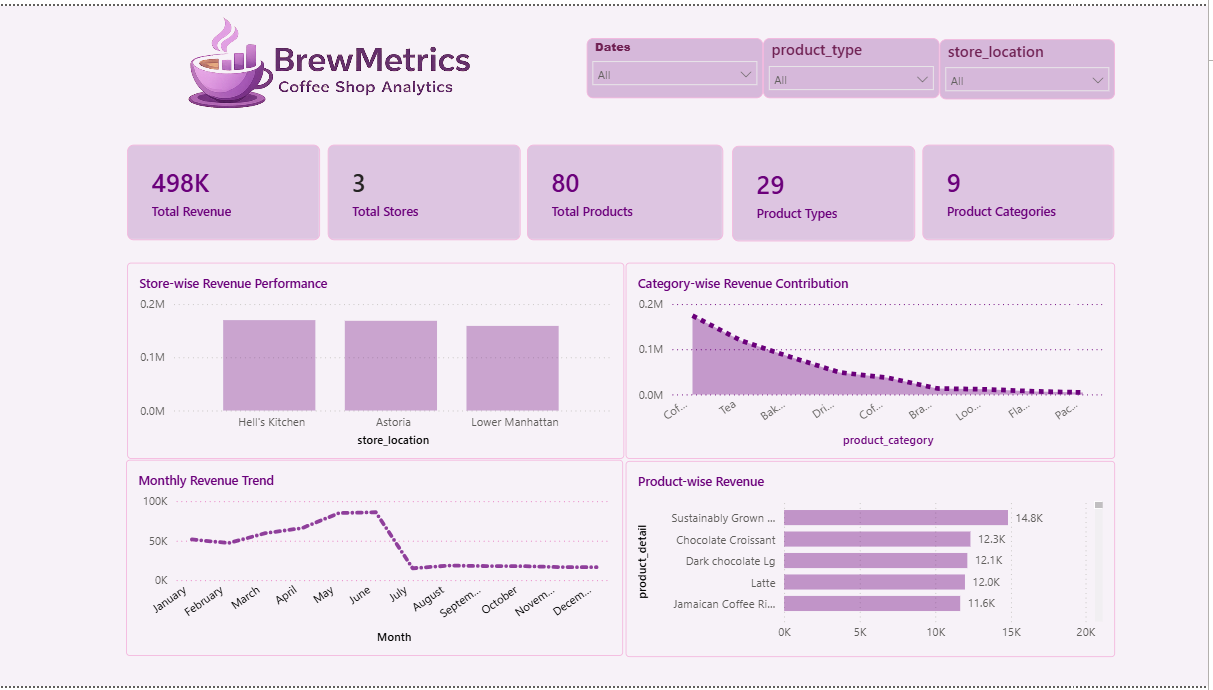

The page's visual inventory and layout, read from the dashboard file:
{"tool":"powerbi","page":{"name":"Page 1","canvas":[1280,720],"ordinal":0},"visuals":[{"type":"image","box":[25.6,0,660,136.7],"z":0},{"type":"slicer","fields":{"Values":["Transactions.transaction_date"]},"box":[621.1,34.4,186.7,63.3],"z":1000},{"type":"slicer","fields":{"Values":["Transactions.product_type"]},"box":[807.8,34.4,186.7,63.3],"z":2000},{"type":"slicer","fields":{"Values":["Transactions.store_location"]},"box":[994.4,35.6,186.7,63.3],"z":3000},{"type":"cardVisual","fields":{"Data":["Count(Transactions.store_id)"]},"box":[346.7,146.7,204.4,101.1],"z":4000},{"type":"cardVisual","fields":{"Data":["Count(Transactions.product_id)"]},"box":[557.8,146.7,207.8,101.1],"z":5000},{"type":"cardVisual","fields":{"Data":["Count(Transactions.product_type)"]},"box":[775.6,147.8,193.3,101.1],"z":6000},{"type":"cardVisual","fields":{"Data":["Count(Transactions.product_category)"]},"box":[976.7,146.7,204.4,101.1],"z":7000},{"type":"clusteredColumnChart","title":"Store-wise Revenue Performance","fields":{"Category":["Transactions.store_location"],"Y":["Sum(Transactions.unit_price)"]},"box":[134.4,272.2,526.7,207.8],"z":8000},{"type":"areaChart","title":"Category-wise Revenue Contribution ","fields":{"Category":["Transactions.product_category"],"Y":["Sum(Transactions.unit_price)"]},"box":[662.3,271.7,518.9,207.8],"z":9000},{"type":"cardVisual","fields":{"Data":["Sum(Transactions.unit_price)"]},"box":[134.7,146.8,204.4,101.1],"z":10000},{"type":"clusteredBarChart","title":"Product-wise Revenue ","fields":{"Category":["Transactions.product_detail"],"Y":["Sum(Transactions.unit_price)"]},"box":[662.2,481.1,518.9,207.8],"z":11000},{"type":"lineChart","title":"Monthly Revenue Trend","fields":{"Category":["Transactions.Month Name.Variation.Date Hierarchy.Month"],"Y":["Sum(Transactions.unit_price)"]},"box":[134,480,526.7,207.8],"z":12000}]}

Visuals, with their boxes in screenshot pixels (x1, y1, x2, y2), scaled from the page's 1280x720 canvas onto the 1213x690 screenshot:
image: 24:0:650:131
slicer - Transactions.transaction_date: 589:33:766:94
slicer - Transactions.product_type: 766:33:942:94
slicer - Transactions.store_location: 942:34:1119:95
cardVisual - Count(Transactions.store_id): 329:141:522:237
cardVisual - Count(Transactions.product_id): 529:141:726:237
cardVisual - Count(Transactions.product_type): 735:142:918:239
cardVisual - Count(Transactions.product_category): 926:141:1119:237
"Store-wise Revenue Performance" clusteredColumnChart: 127:261:626:460
"Category-wise Revenue Contribution " areaChart: 628:260:1119:460
cardVisual - Sum(Transactions.unit_price): 128:141:321:238
"Product-wise Revenue " clusteredBarChart: 628:461:1119:660
"Monthly Revenue Trend" lineChart: 127:460:626:659
